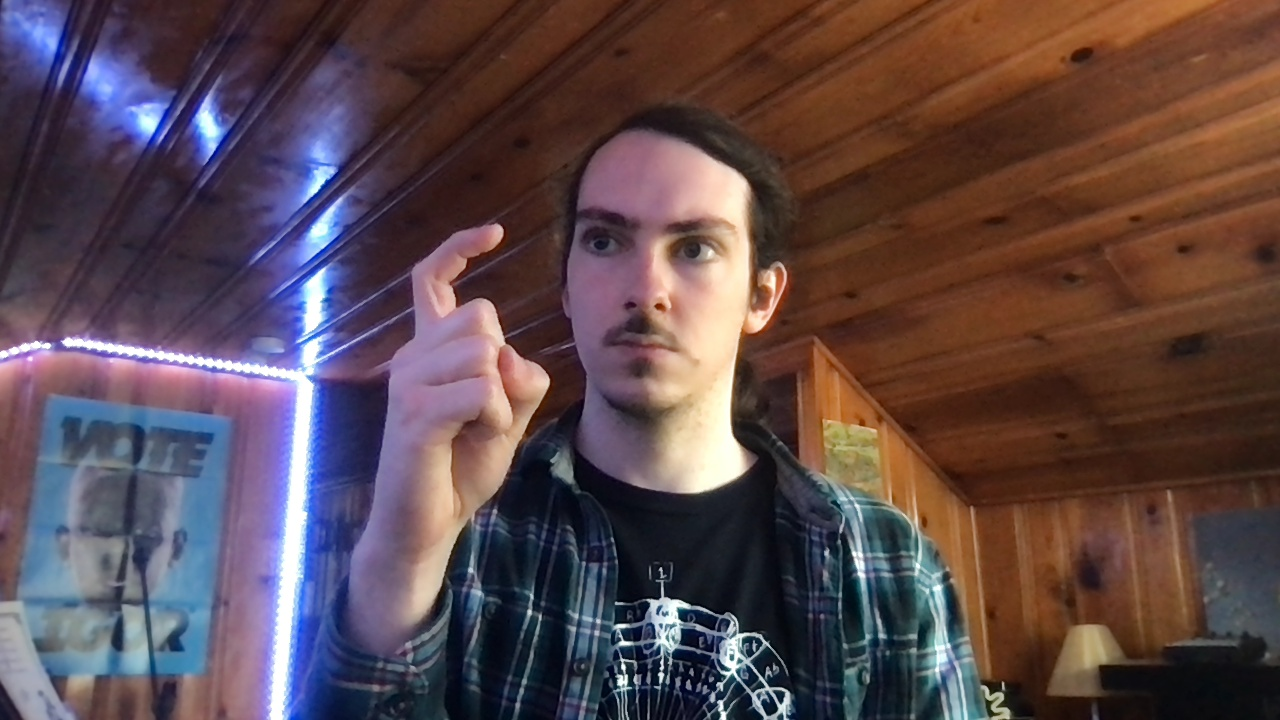x: (372, 222, 551, 528)
